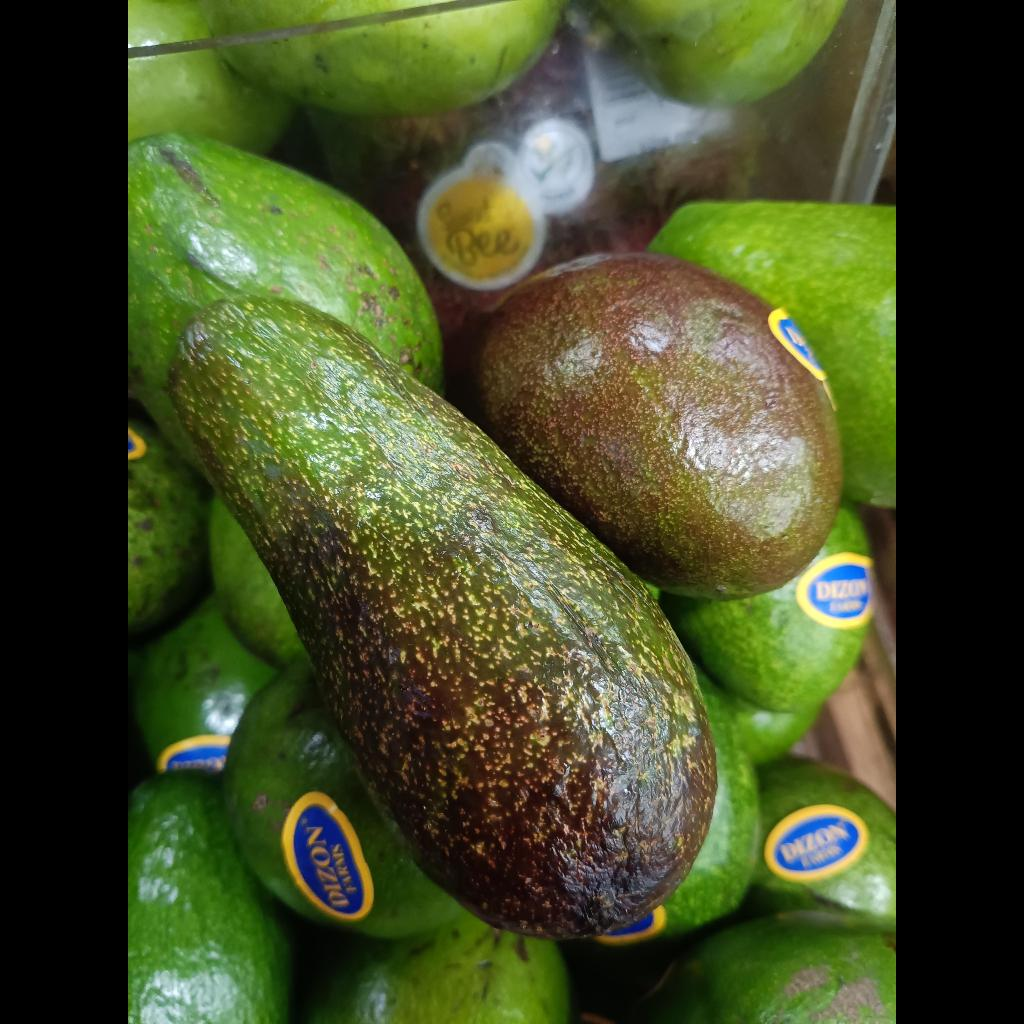anthracnose: (169, 296, 715, 938)
healthy: (476, 253, 842, 600)
